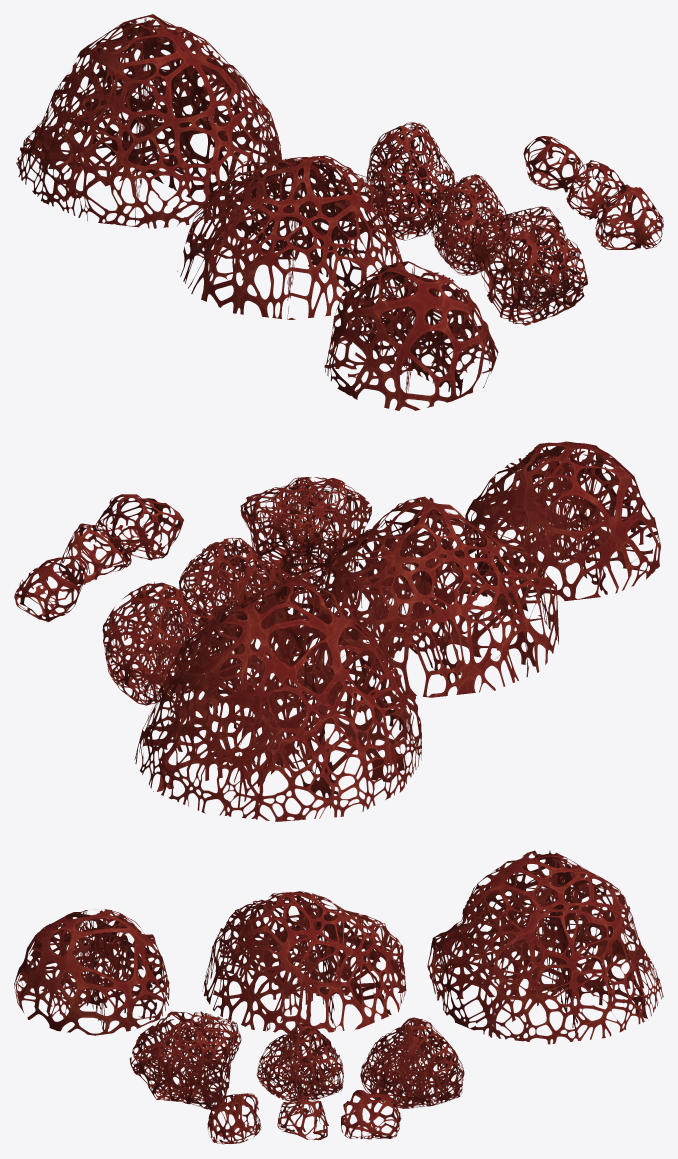
The model's file is fungal_coral.glb.
The picture shows the model from 3 angles, top to bottom: view 1: azimuth 30°, elevation 25°; view 2: azimuth 150°, elevation 25°; view 3: azimuth 270°, elevation 25°; orthographic projection. The views are drawn at different scales.
Parts seen in each view (by area): view 1: smd_mesh.002, smd_mesh.001, smd_mesh, smd_mesh.003, smd_mesh.005, smd_mesh.004, smd_mesh.006, smd_mesh.008, smd_mesh.007; view 2: smd_mesh.002, smd_mesh.001, smd_mesh, smd_mesh.003, smd_mesh.005, smd_mesh.004, smd_mesh.006, smd_mesh.008, smd_mesh.007; view 3: smd_mesh.002, smd_mesh.001, smd_mesh, smd_mesh.003, smd_mesh.005, smd_mesh.004, smd_mesh.008, smd_mesh.006, smd_mesh.007.
Boxes of the visible parts, box(x1,y1,x2,y2) form: smd_mesh.002: box(16, 14, 282, 228); smd_mesh.001: box(177, 155, 404, 319); smd_mesh: box(324, 261, 498, 410); smd_mesh.003: box(470, 206, 587, 325); smd_mesh.005: box(363, 122, 454, 240); smd_mesh.004: box(431, 174, 510, 275); smd_mesh.006: box(595, 184, 663, 249); smd_mesh.008: box(523, 136, 586, 192); smd_mesh.007: box(566, 160, 624, 219); smd_mesh.002: box(134, 577, 421, 821); smd_mesh.001: box(296, 496, 558, 697); smd_mesh: box(464, 441, 660, 601); smd_mesh.003: box(240, 477, 371, 597); smd_mesh.005: box(102, 582, 232, 705); smd_mesh.004: box(179, 537, 291, 641); smd_mesh.006: box(96, 494, 183, 560); smd_mesh.008: box(14, 555, 87, 621); smd_mesh.007: box(58, 523, 131, 584); smd_mesh.002: box(427, 850, 663, 1044); smd_mesh.001: box(202, 891, 406, 1035); smd_mesh: box(14, 909, 169, 1035); smd_mesh.003: box(129, 1011, 241, 1111); smd_mesh.005: box(360, 1017, 464, 1108); smd_mesh.004: box(256, 1023, 343, 1101); smd_mesh.008: box(341, 1090, 401, 1139); smd_mesh.006: box(207, 1093, 261, 1144); smd_mesh.007: box(277, 1093, 328, 1140).
Size of the model in its own units: 0.1409 by 0.058 by 0.1996.
9 materials, 9 textured.
